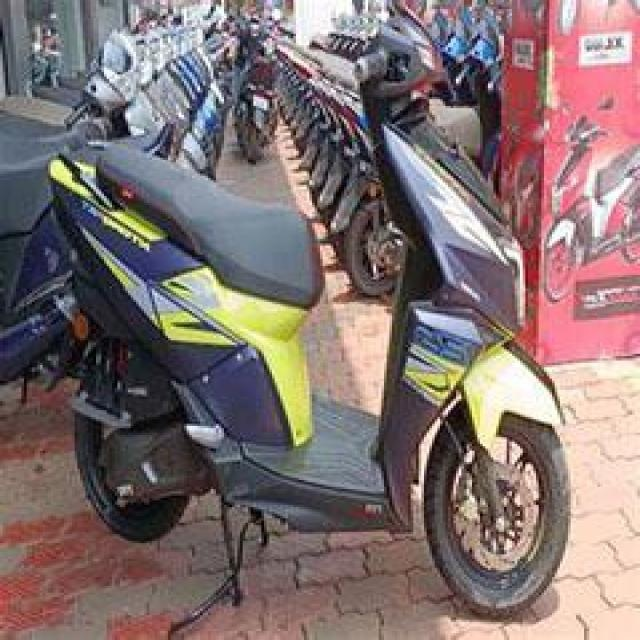motorcycle: (30, 9, 614, 613)
